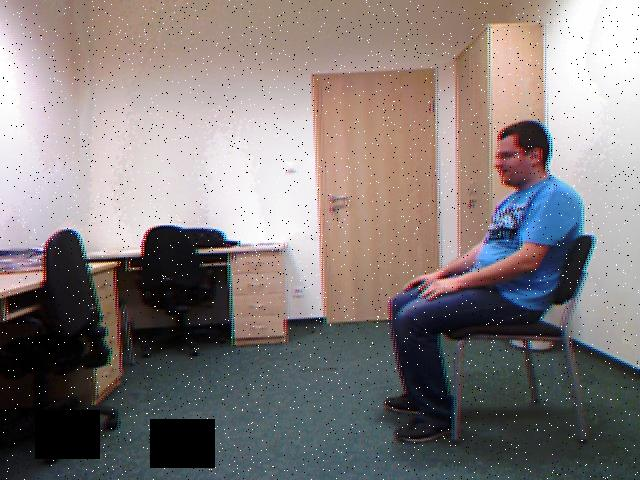sitting: (385, 121, 582, 443)
